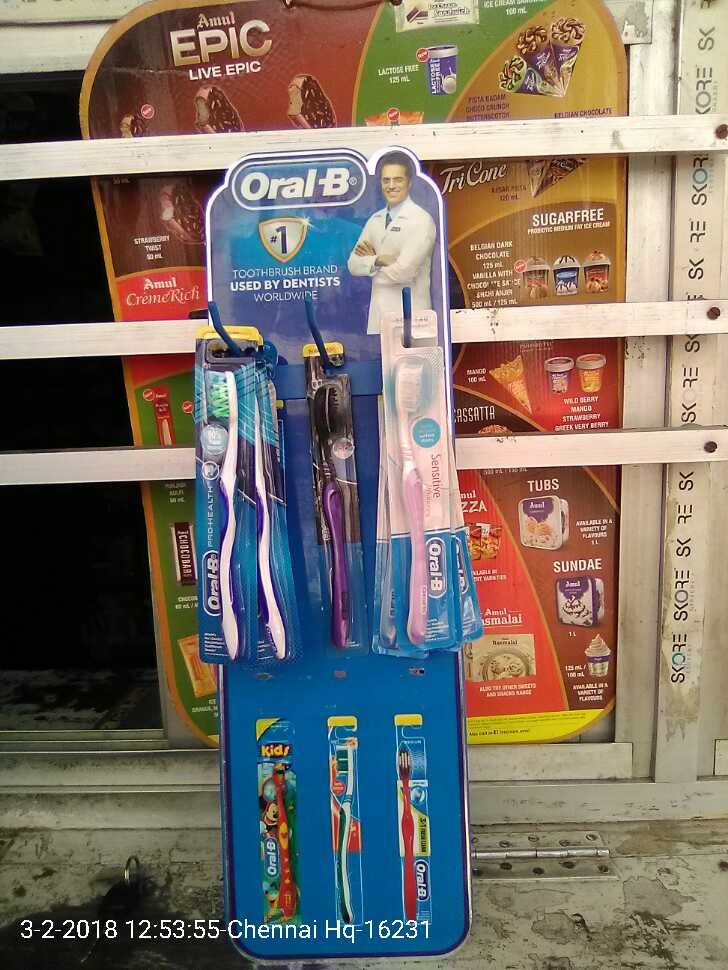oralb: (377, 313, 457, 640), (194, 319, 265, 663), (299, 340, 369, 652)
